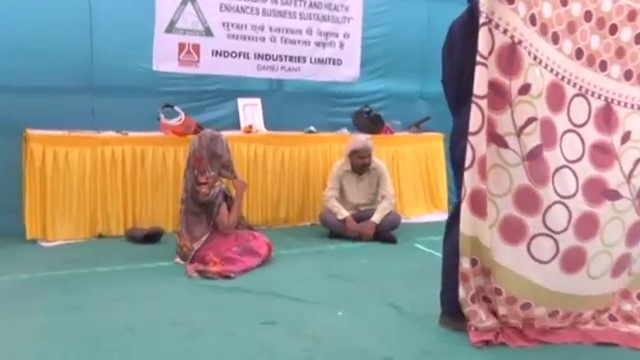helmet_off: (193, 131, 233, 174), (348, 136, 372, 176)
person: (174, 132, 276, 280), (439, 1, 481, 333), (321, 137, 400, 247)
